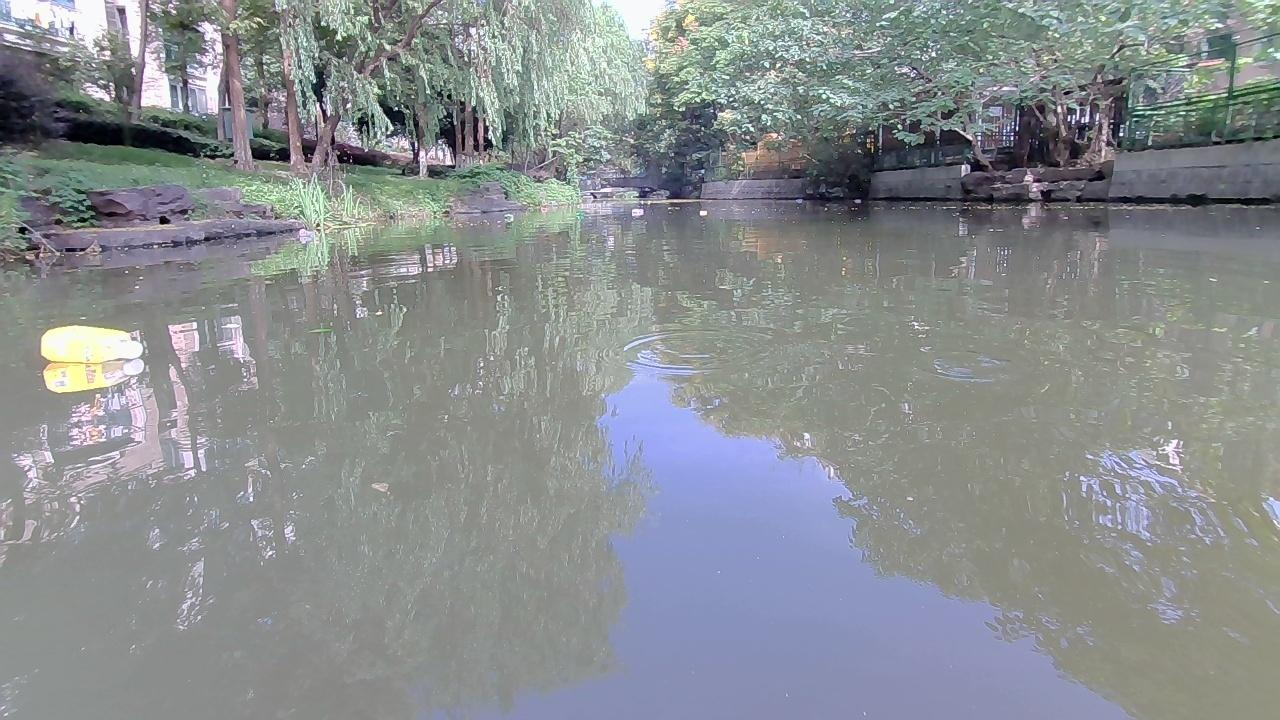bottle: (33, 323, 144, 363), (293, 228, 321, 241), (499, 210, 512, 219), (696, 209, 708, 218), (629, 206, 640, 215), (603, 232, 612, 243), (571, 211, 583, 217)
